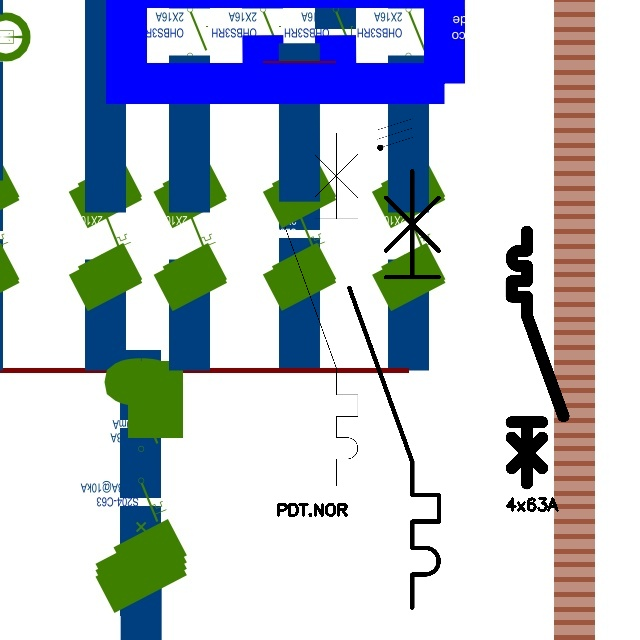interruptor_termomagnetico: (338, 159, 450, 618), (276, 124, 367, 495), (505, 225, 570, 490)
